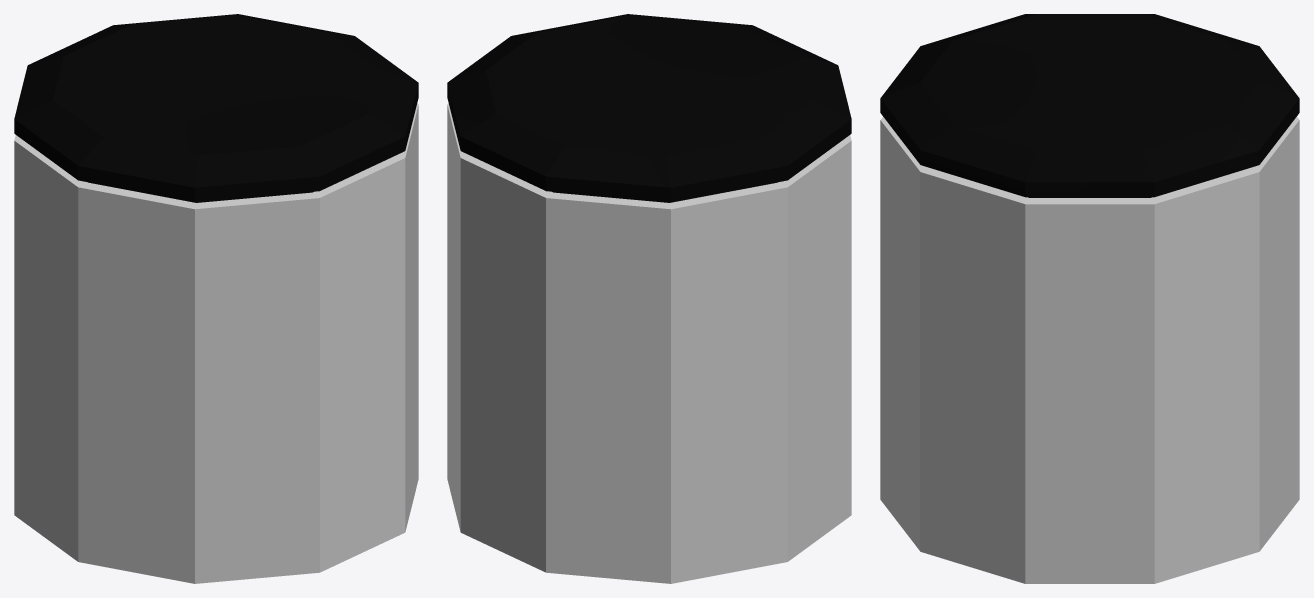
File: Pot.fbx
3 views of the same model, side by side, from view 1: azimuth 30°, elevation 25°; view 2: azimuth 150°, elevation 25°; view 3: azimuth 270°, elevation 25° (orthographic).
Parts seen in each view (by area): view 1: Cylinder; view 2: Cylinder; view 3: Cylinder.
Boxes of the visible parts, x1,y1,x2,y2 form: Cylinder: [14, 14, 418, 583]; Cylinder: [447, 14, 851, 583]; Cylinder: [880, 14, 1299, 583].
Size of the model in its own units: 1.9 by 2.2 by 2.
Materials: 2 (1 with a texture image).
